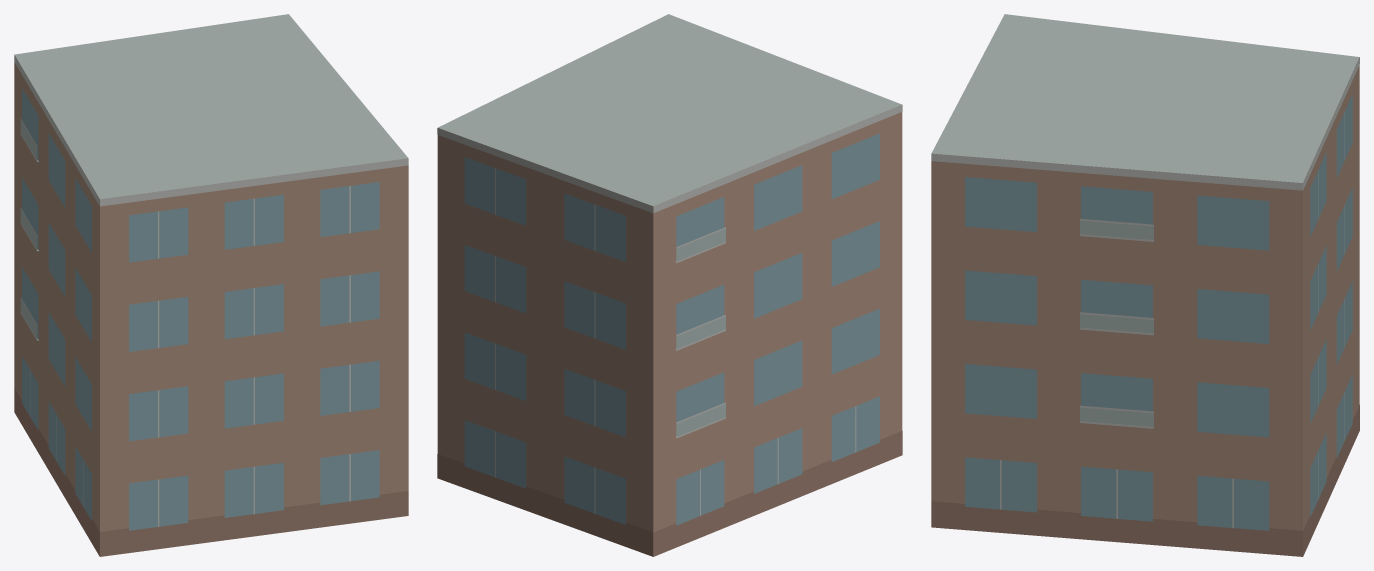
Rendered from survey-upis-33030612.glb.
3 views of the same model, side by side, from view 1: azimuth 30°, elevation 25°; view 2: azimuth 150°, elevation 25°; view 3: azimuth 270°, elevation 25° (orthographic). The views are drawn at different scales.
Visible parts, largest first — view 1: survey-upis-33030612.tmp; view 2: survey-upis-33030612.tmp; view 3: survey-upis-33030612.tmp.
Boxes of the visible parts, bbox=[...] form: survey-upis-33030612.tmp: bbox=[14, 14, 408, 556]; survey-upis-33030612.tmp: bbox=[437, 14, 902, 556]; survey-upis-33030612.tmp: bbox=[931, 14, 1359, 556].
Bounding box in the file's own units: 11.85 × 12.2 × 12.68.
